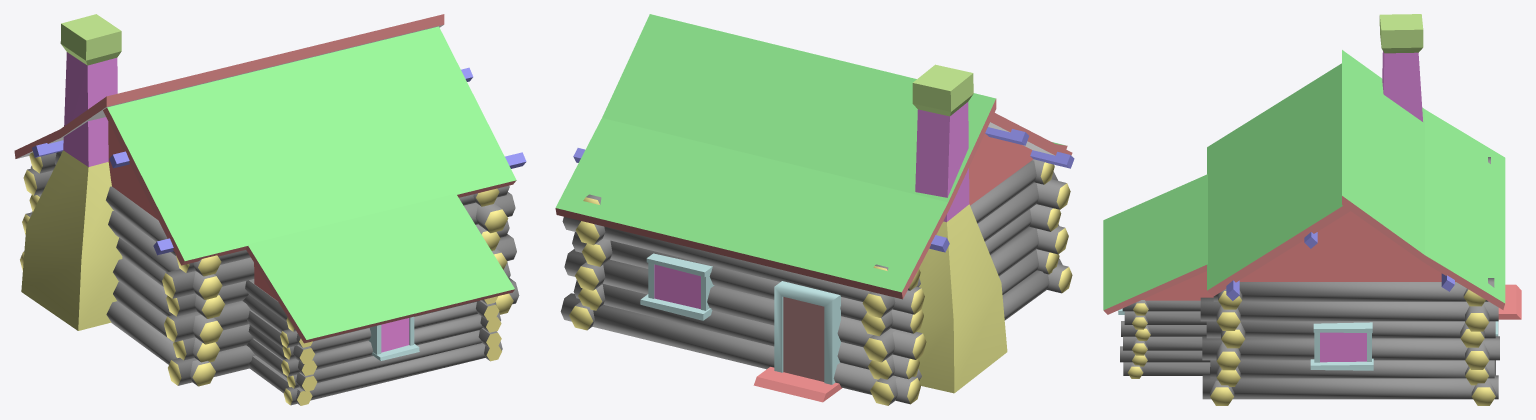
Rendered from Field_Deco_Artifact_S__loghouse.gltf.
3 renders of one model, left to right at view 1: azimuth 30°, elevation 25°; view 2: azimuth 150°, elevation 25°; view 3: azimuth 270°, elevation 25°, orthographic. The views are drawn at different scales.
Parts seen in each view (by area): view 1: loghouse; view 2: loghouse; view 3: loghouse.
Boxes of the visible parts, x1,y1,x2,y2 form: loghouse: (14,14,526,405); loghouse: (555,14,1074,405); loghouse: (1103,14,1521,405).
Bounding box in the file's own units: 3.26 × 2.31 × 3.54.
